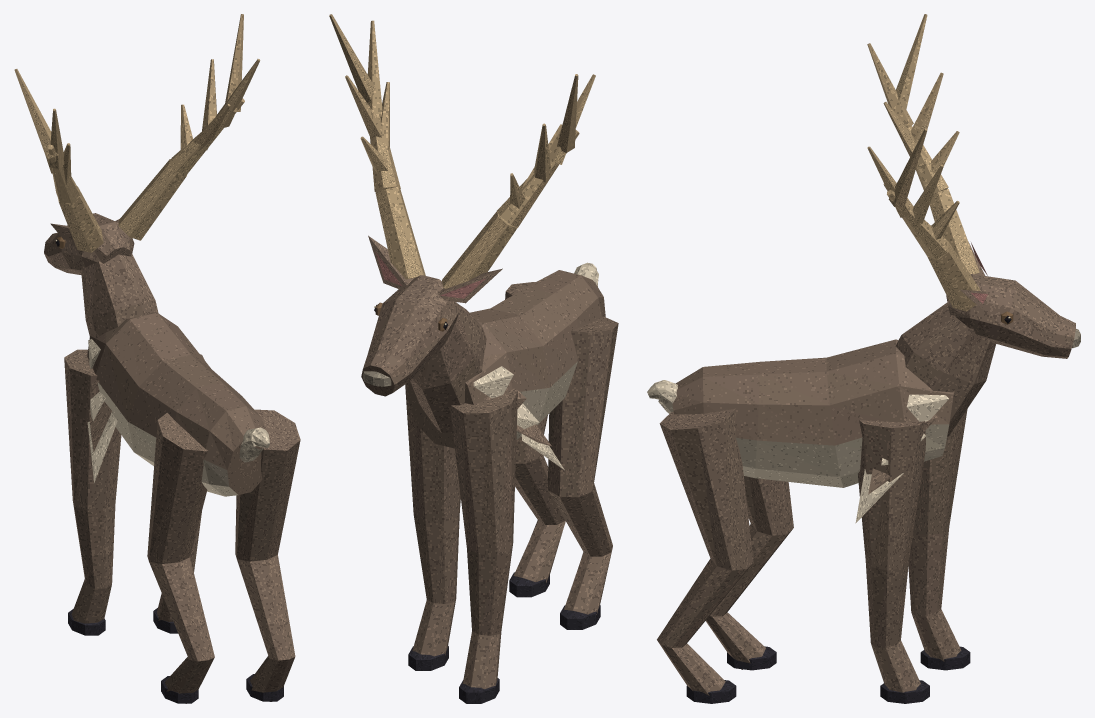
Rendered from mon_reindeer.glb.
3 renders of one model, left to right at view 1: azimuth 30°, elevation 25°; view 2: azimuth 150°, elevation 25°; view 3: azimuth 270°, elevation 25°, orthographic. The views are drawn at different scales.
Visible parts, largest first — view 1: closed_body; view 2: closed_body; view 3: closed_body.
Part boxes in pixels (left/top/right/bottom): closed_body: left=14, top=14, right=300, bottom=703; closed_body: left=329, top=14, right=618, bottom=703; closed_body: left=647, top=14, right=1080, bottom=703.
Size of the model in its own units: 2.07 by 5.1 by 3.27.
1 material, 1 textured.
